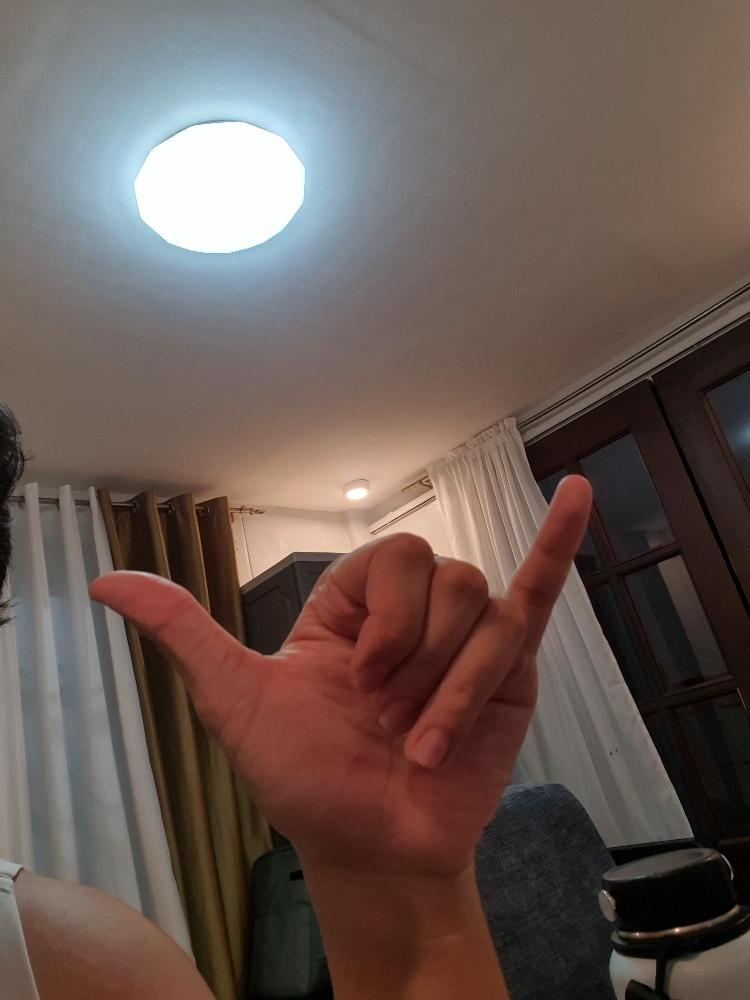y: (86, 469, 595, 875)
